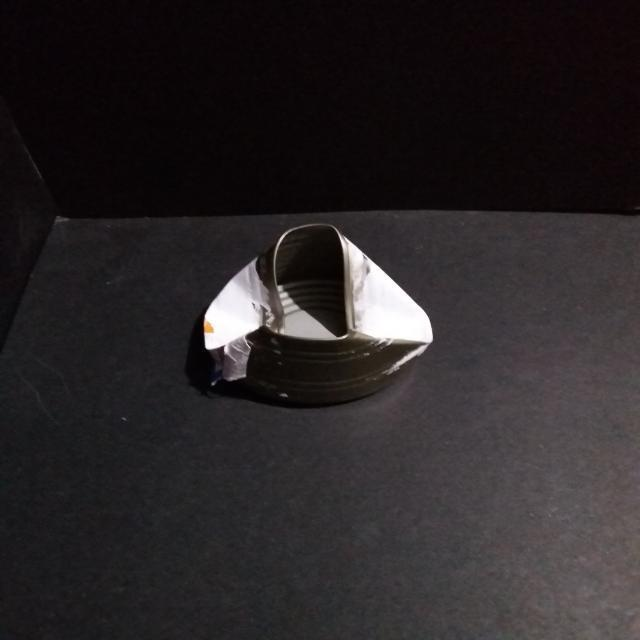metal-can: (194, 216, 438, 406)
